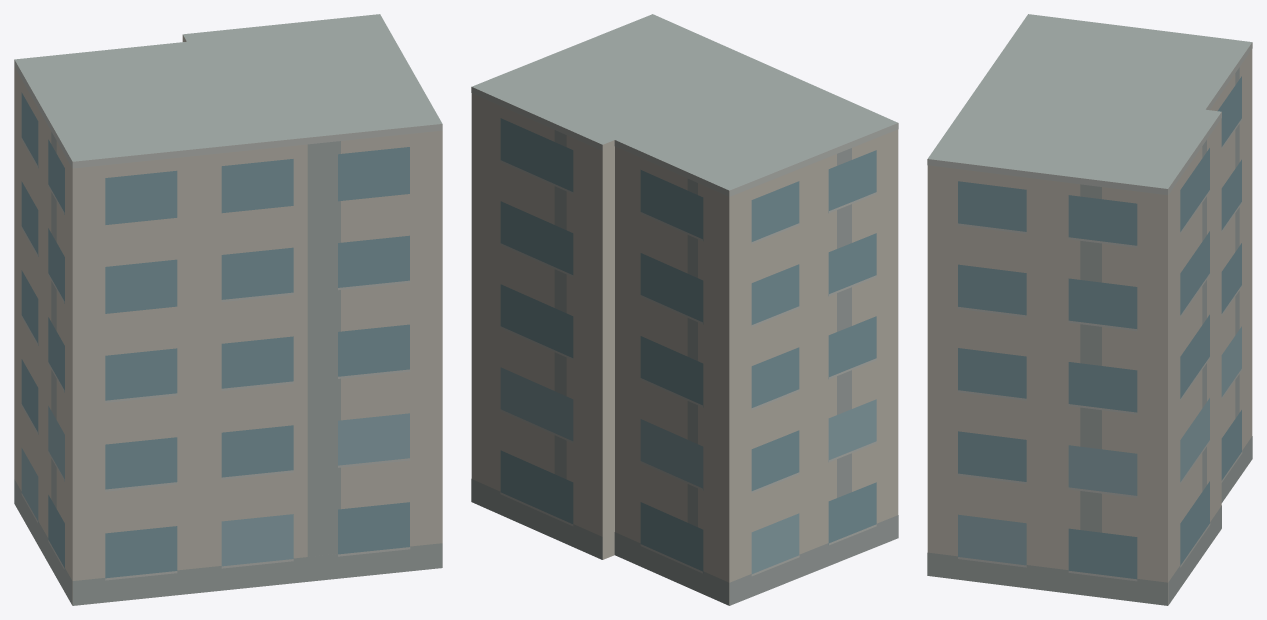
The model's file is survey-upis-32963759.glb.
3 views of the same model, side by side, from view 1: azimuth 30°, elevation 25°; view 2: azimuth 150°, elevation 25°; view 3: azimuth 270°, elevation 25° (orthographic). The views are drawn at different scales.
Visible parts, largest first — view 1: survey-upis-32963759.tmp; view 2: survey-upis-32963759.tmp; view 3: survey-upis-32963759.tmp.
Boxes of the visible parts, x1,y1,x2,y2 form: survey-upis-32963759.tmp: (14,14,442,605); survey-upis-32963759.tmp: (471,14,898,605); survey-upis-32963759.tmp: (927,14,1252,605).
Size of the model in its own units: 14.46 by 16.05 by 11.35.
